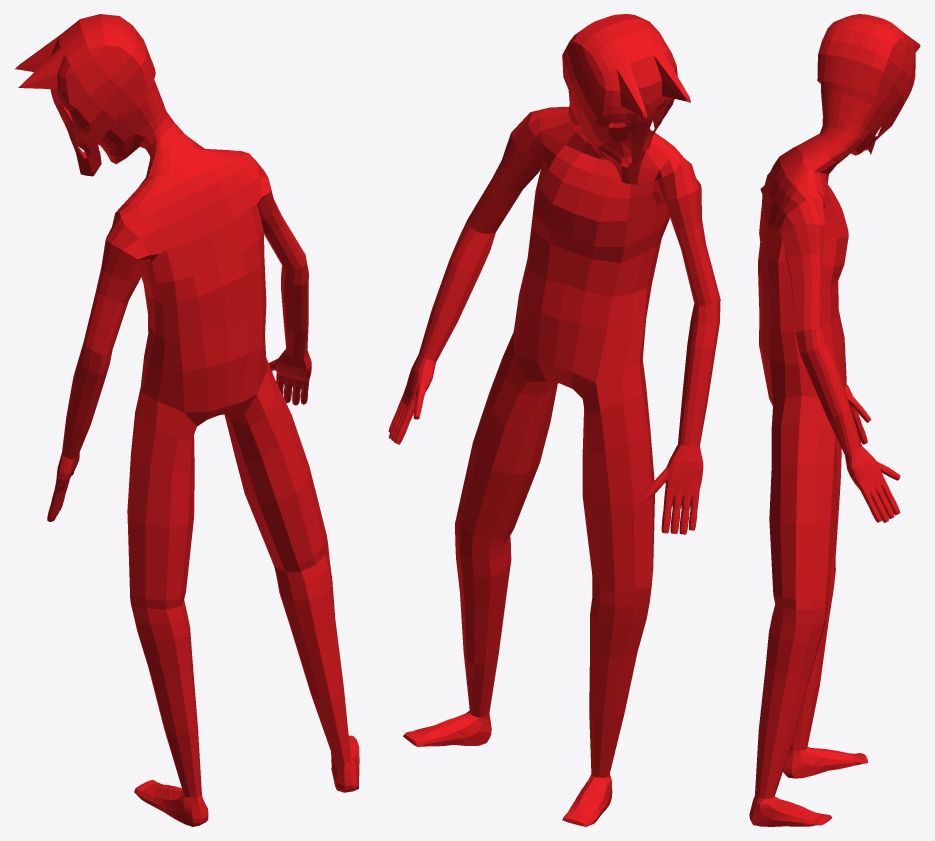
Rendered from reposoE_000268.obj.
The picture shows the model from 3 angles, left to right: view 1: azimuth 30°, elevation 25°; view 2: azimuth 150°, elevation 25°; view 3: azimuth 270°, elevation 25°; orthographic projection. The views are drawn at different scales.
Visible parts, largest first — view 1: Plane.002_Plane.001; view 2: Plane.002_Plane.001; view 3: Plane.002_Plane.001.
Part boxes in pixels (box(x1,y1,x2,y2)): Plane.002_Plane.001: box(15, 14, 359, 826); Plane.002_Plane.001: box(388, 14, 720, 826); Plane.002_Plane.001: box(749, 14, 920, 826).
Size of the model in its own units: 2.85 by 7.01 by 1.49.
